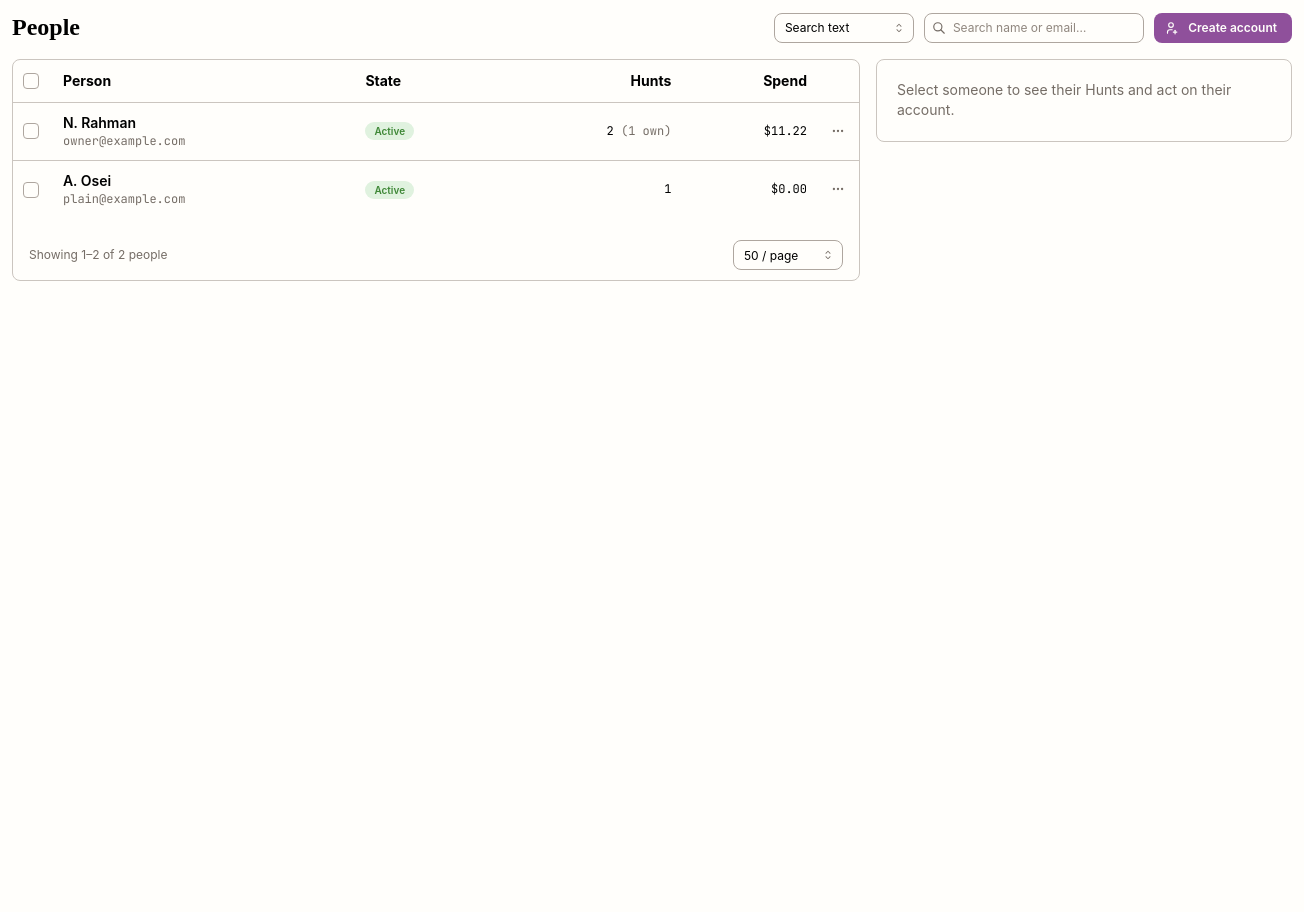
AdminPeoplePage › refuses to remove the Owner from their own Hunt
This screenshot has width=1304, height=912.
Step 1. Click the text "N. Rahman" → click(100, 122), box [63,114,136,131]
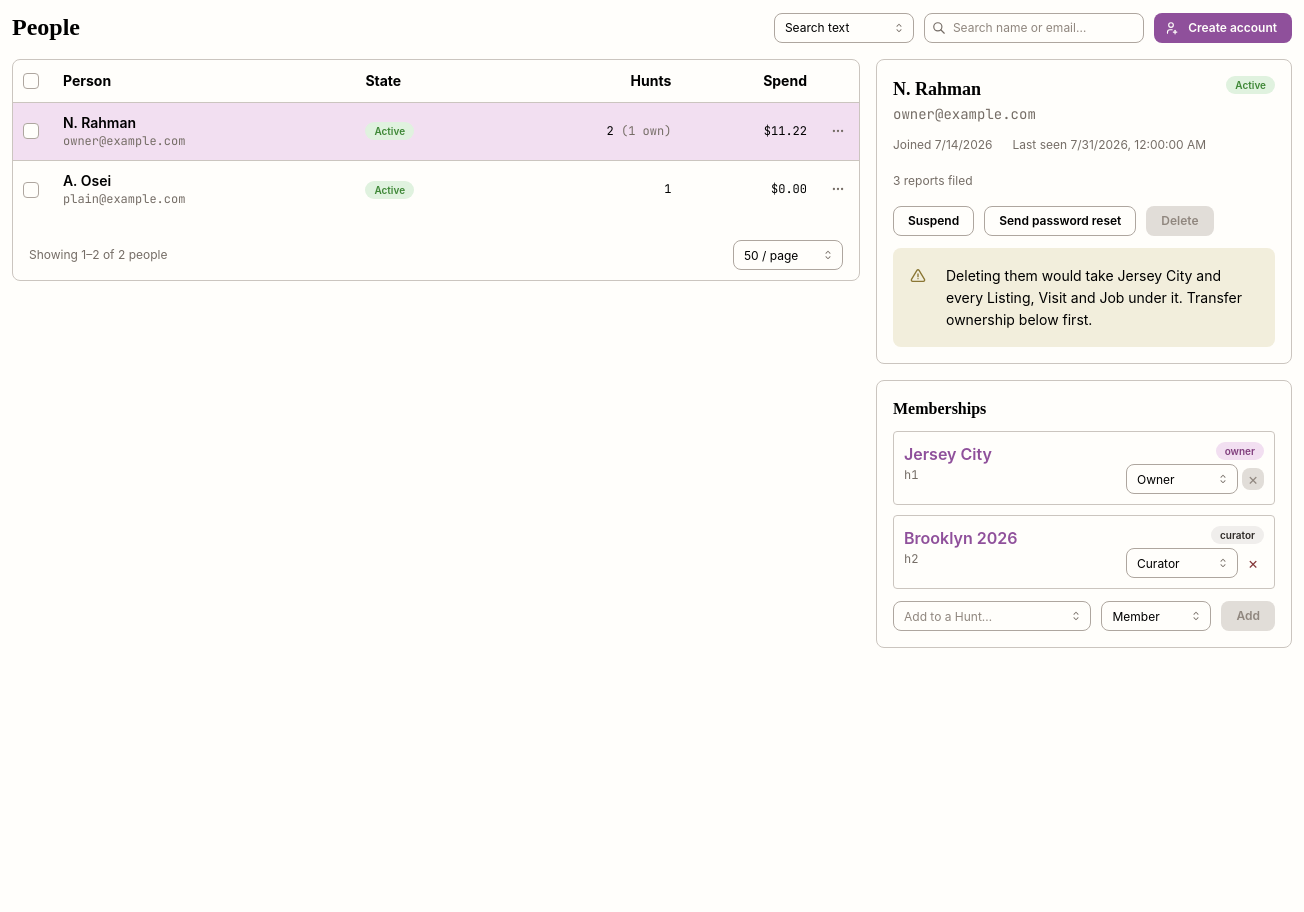
Expected: the button "×" in the row of "h1" is disabled, [1242,468,1264,490]
Expected: the button "×" below "curator" is enabled, [1242,552,1264,574]
